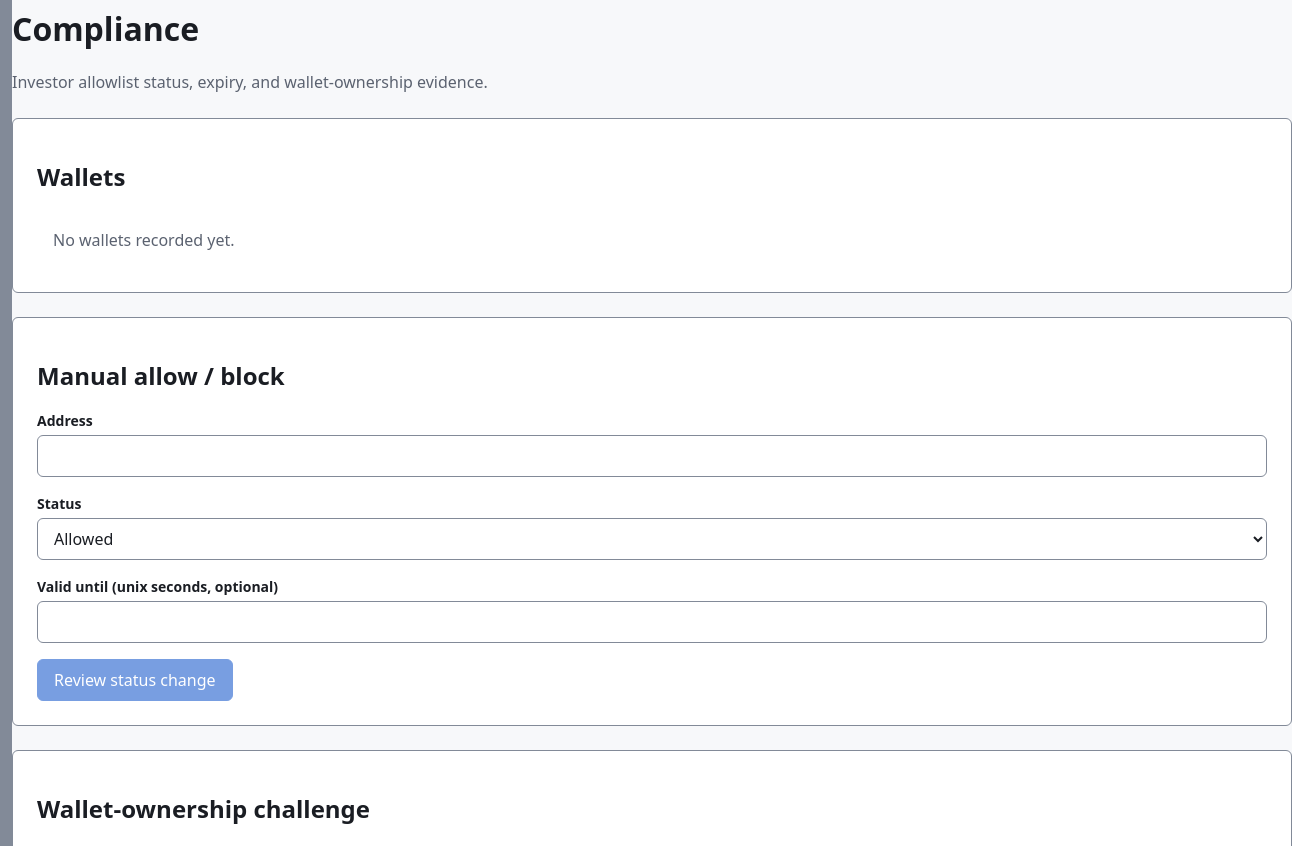
Test: Compliance manual allow / block › shows the server's message when the update is rejected and does not reload wallets
Type "0x1234567890123456789012345678901234567890" into the field labelled "Address" below "Manual allow / block" at (652, 456), box left=37, top=436, right=1267, bottom=478
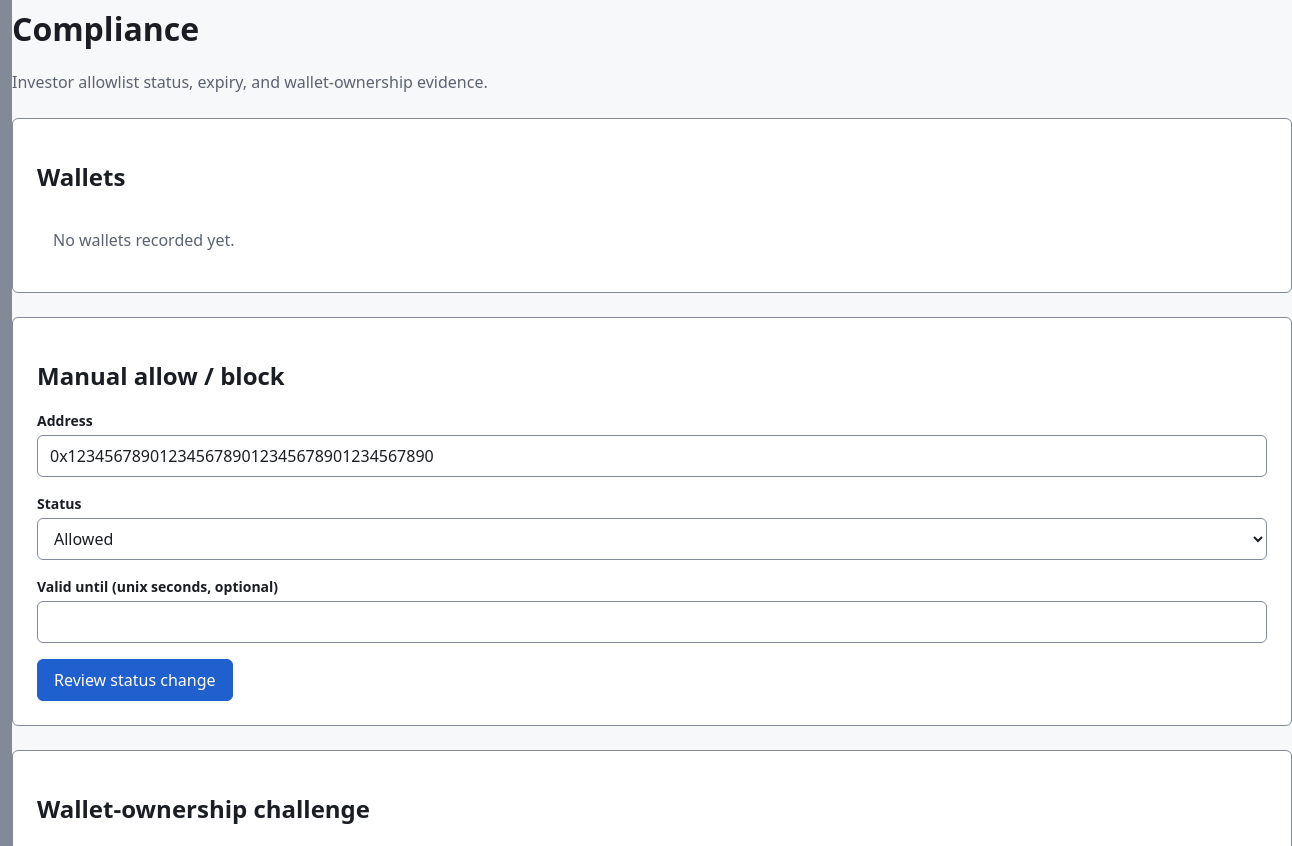
Click the button "Review status change" at (135, 680), box left=37, top=660, right=233, bottom=702
(page scrolled)
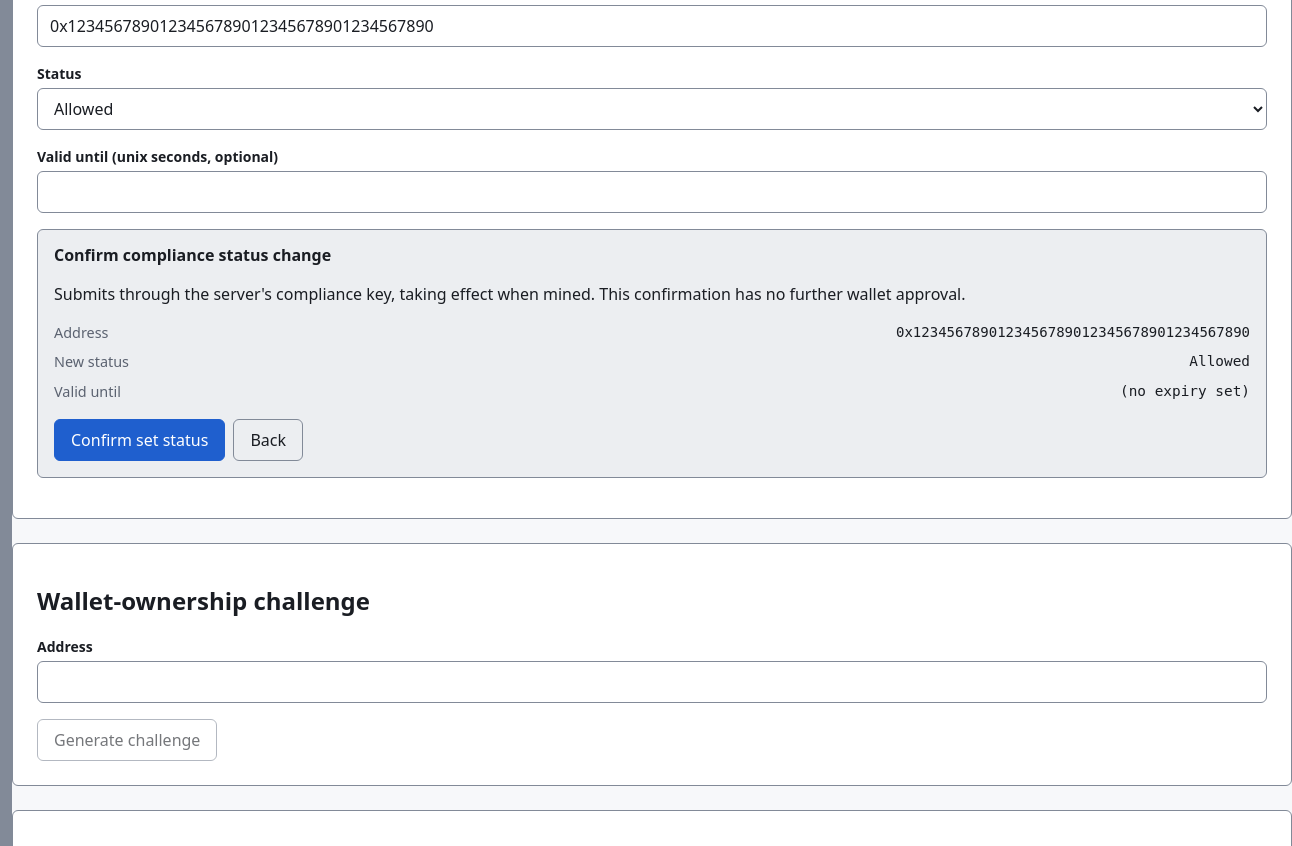
Click the button "Confirm set status" at (140, 440), box left=54, top=418, right=225, bottom=460
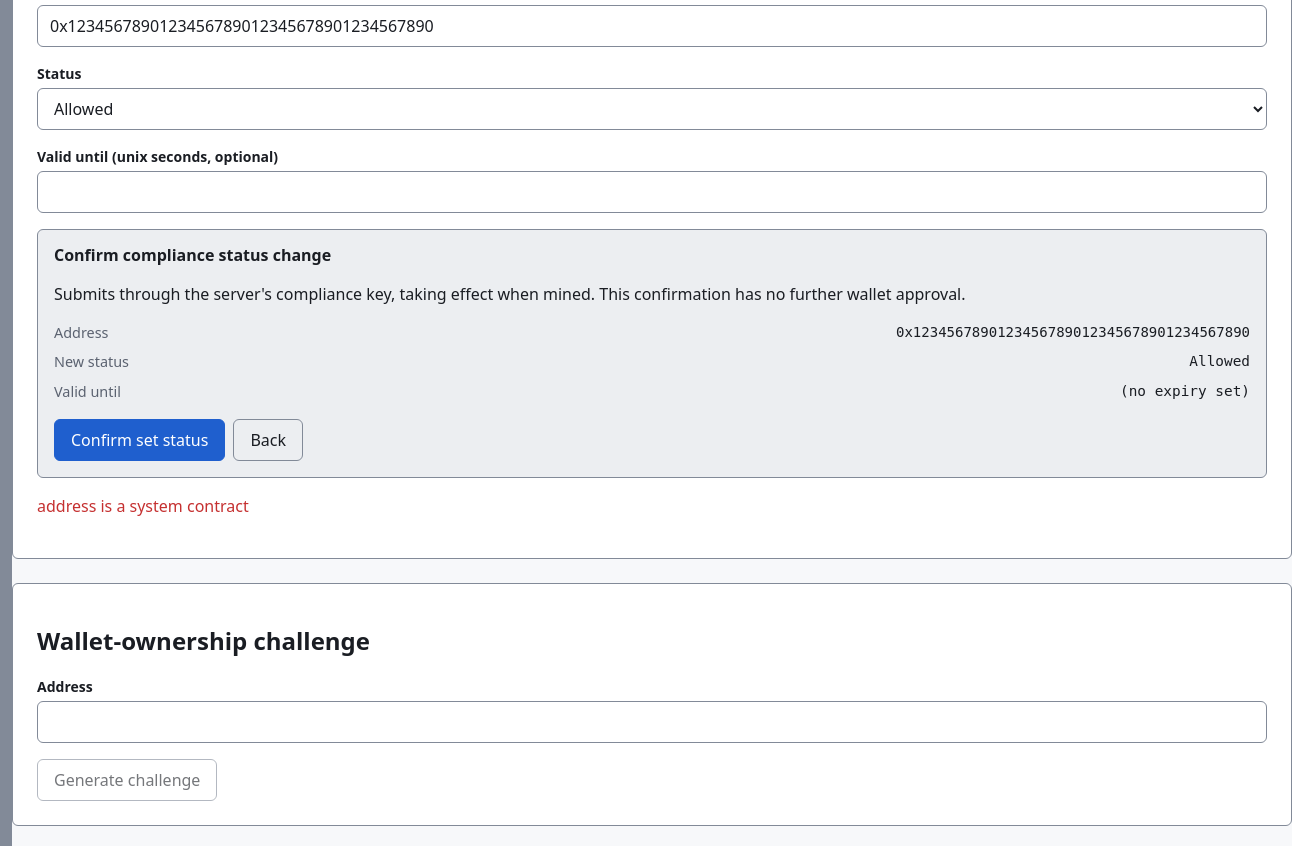
Now the text "address is a system contract" is shown, box left=37, top=494, right=249, bottom=516
